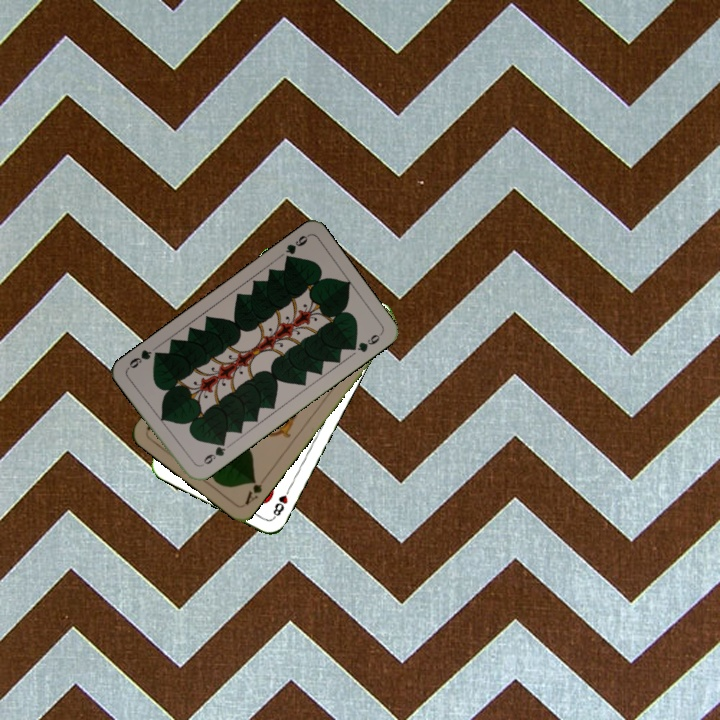G9: (280, 231, 311, 265), (196, 437, 228, 469)
GA: (240, 475, 265, 508)
H8: (269, 483, 293, 521)
